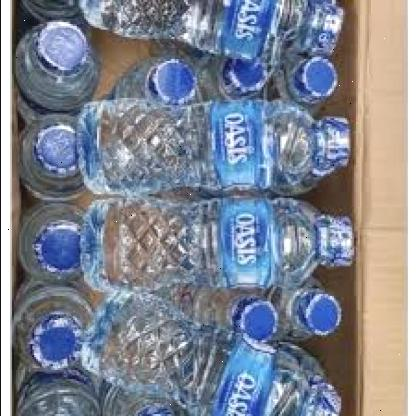Plastic Bottle: (83, 290, 341, 416), (79, 195, 355, 295), (76, 96, 350, 192), (78, 0, 343, 60)
